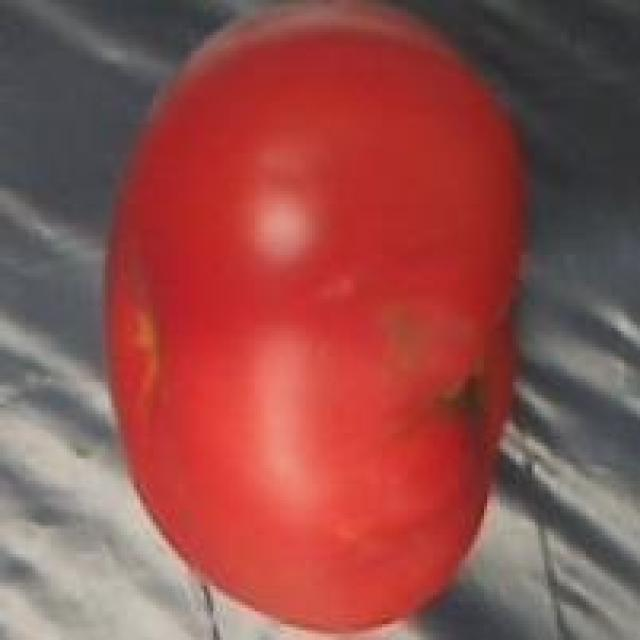overripe tomato: (95, 3, 535, 640)
